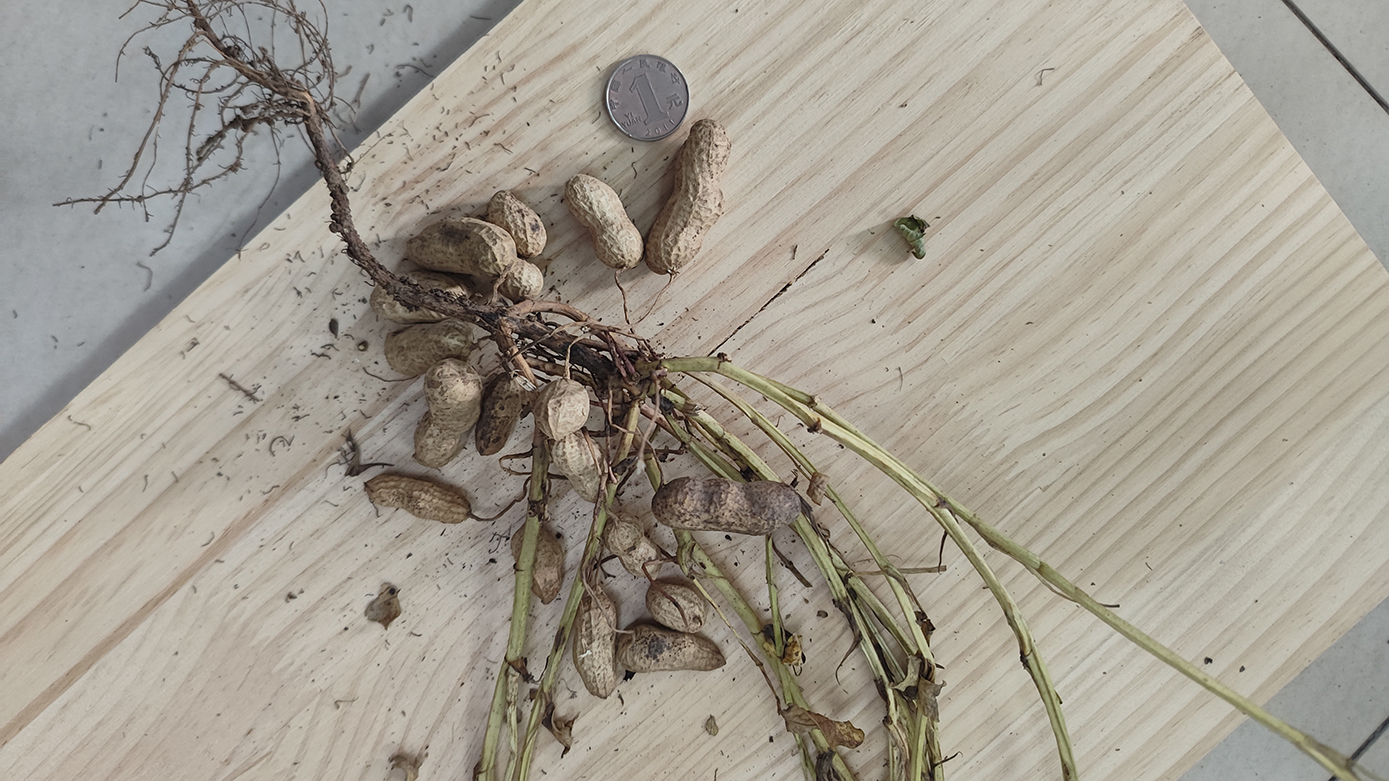h: (645, 120, 730, 275), (566, 174, 643, 269), (416, 358, 479, 468), (406, 217, 515, 274), (363, 476, 472, 527), (370, 273, 477, 322), (383, 324, 483, 375), (574, 589, 617, 702), (619, 627, 727, 669), (512, 522, 565, 607), (486, 190, 548, 258), (554, 432, 610, 507), (604, 515, 657, 580), (477, 374, 518, 457), (535, 381, 588, 440), (648, 585, 705, 634), (501, 261, 544, 303)
l: (652, 477, 801, 537)
